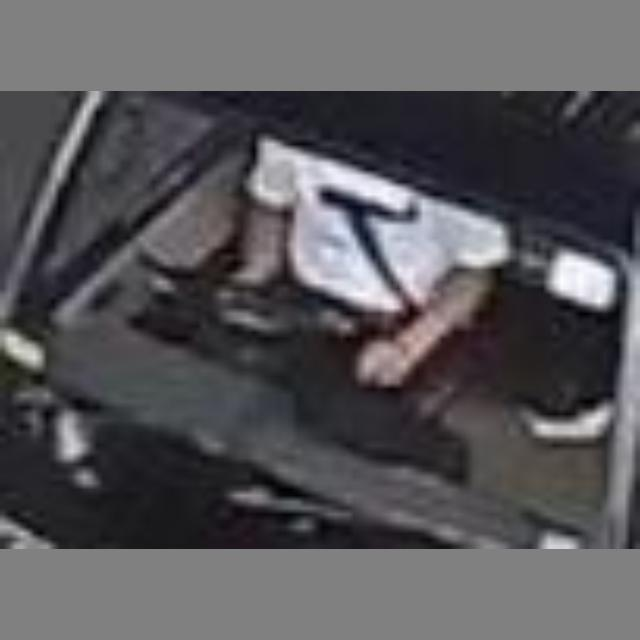pakai: (238, 135, 489, 367)
